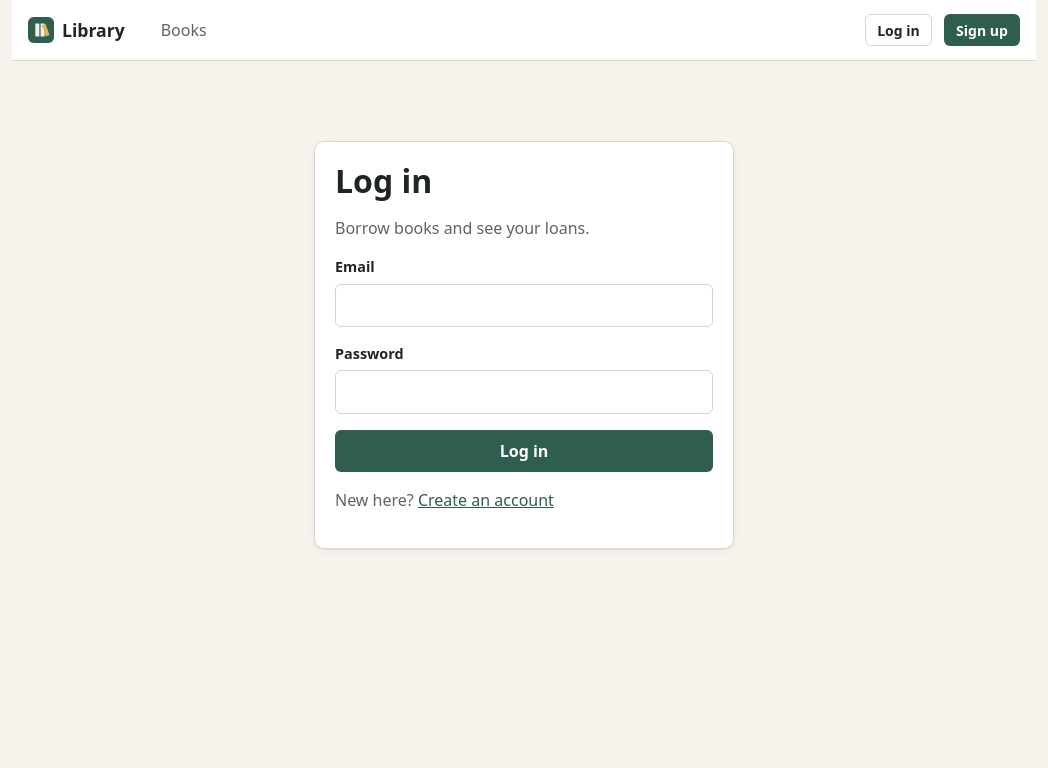
logging in › keeps the token for this browser tab only
Type "ada@example.com" into the field labelled "Email" at (524, 305), box [335, 284, 713, 327]
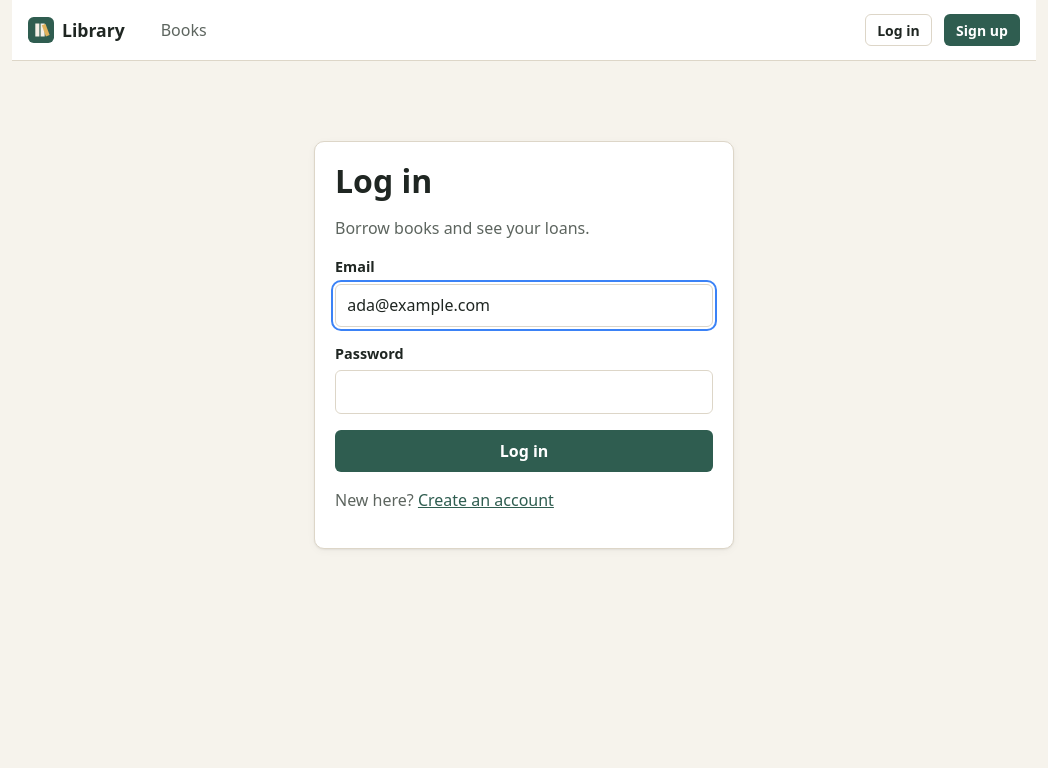
Type "correct horse battery staple" into the password field labelled "Password" at (524, 392), box [335, 370, 713, 414]
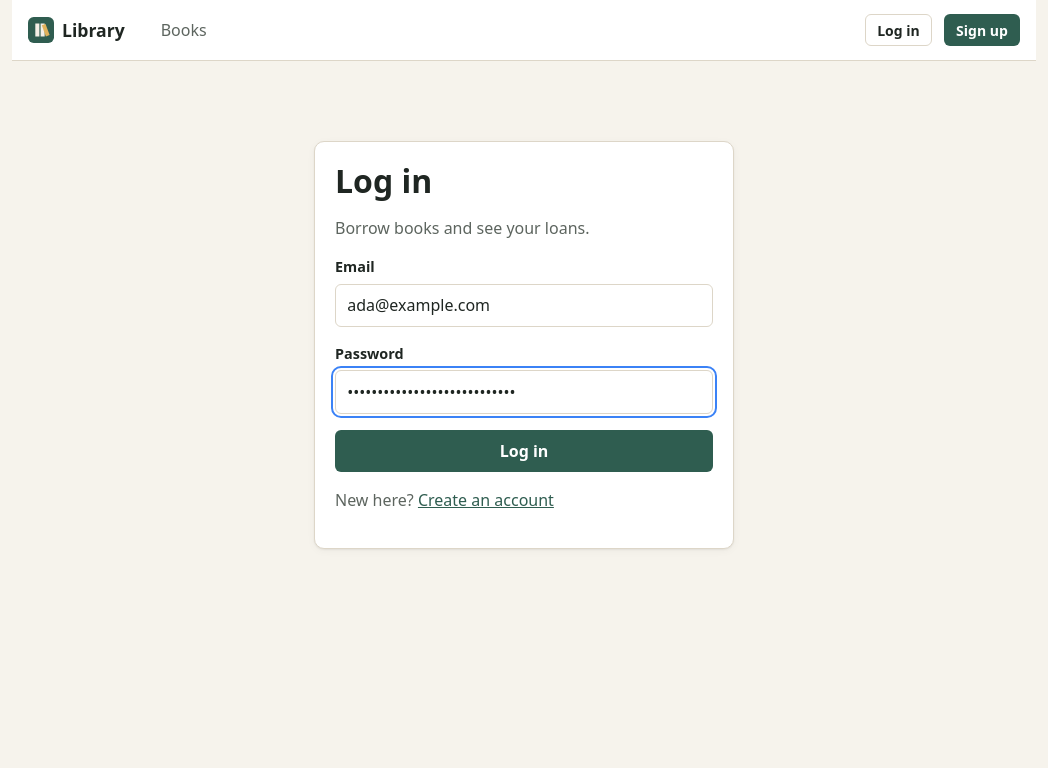
Click the button "Log in" at (524, 451), box [335, 430, 713, 472]
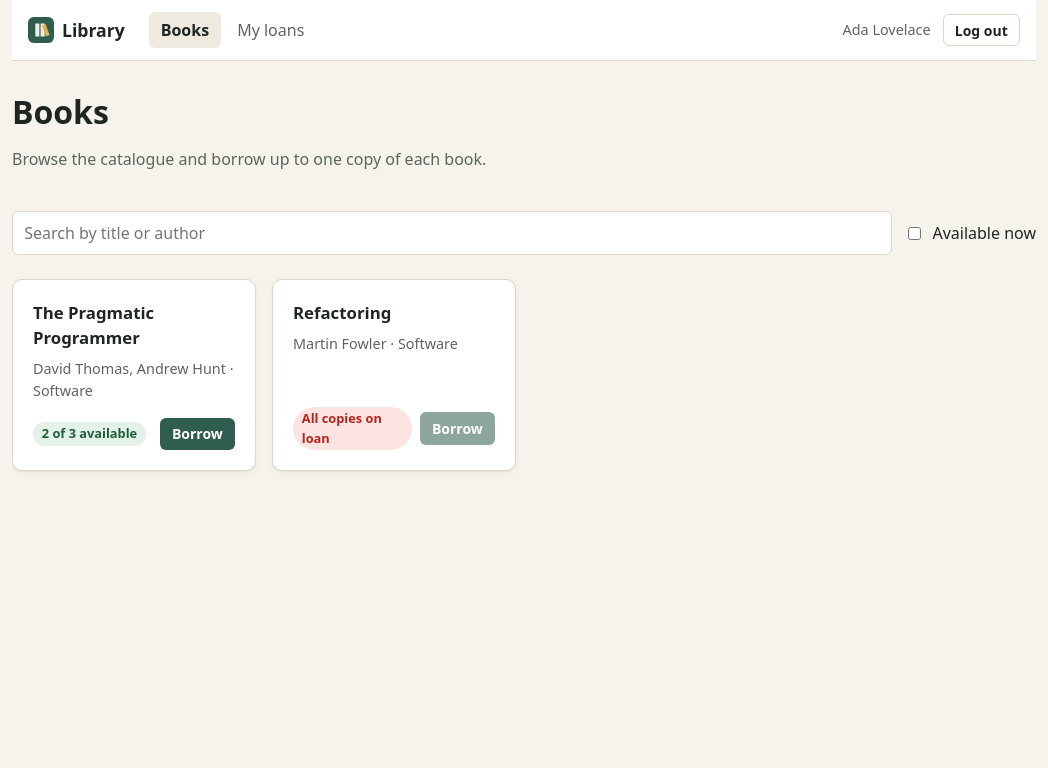
expect the button "Log out" is shown: met, box [943, 14, 1020, 46]
